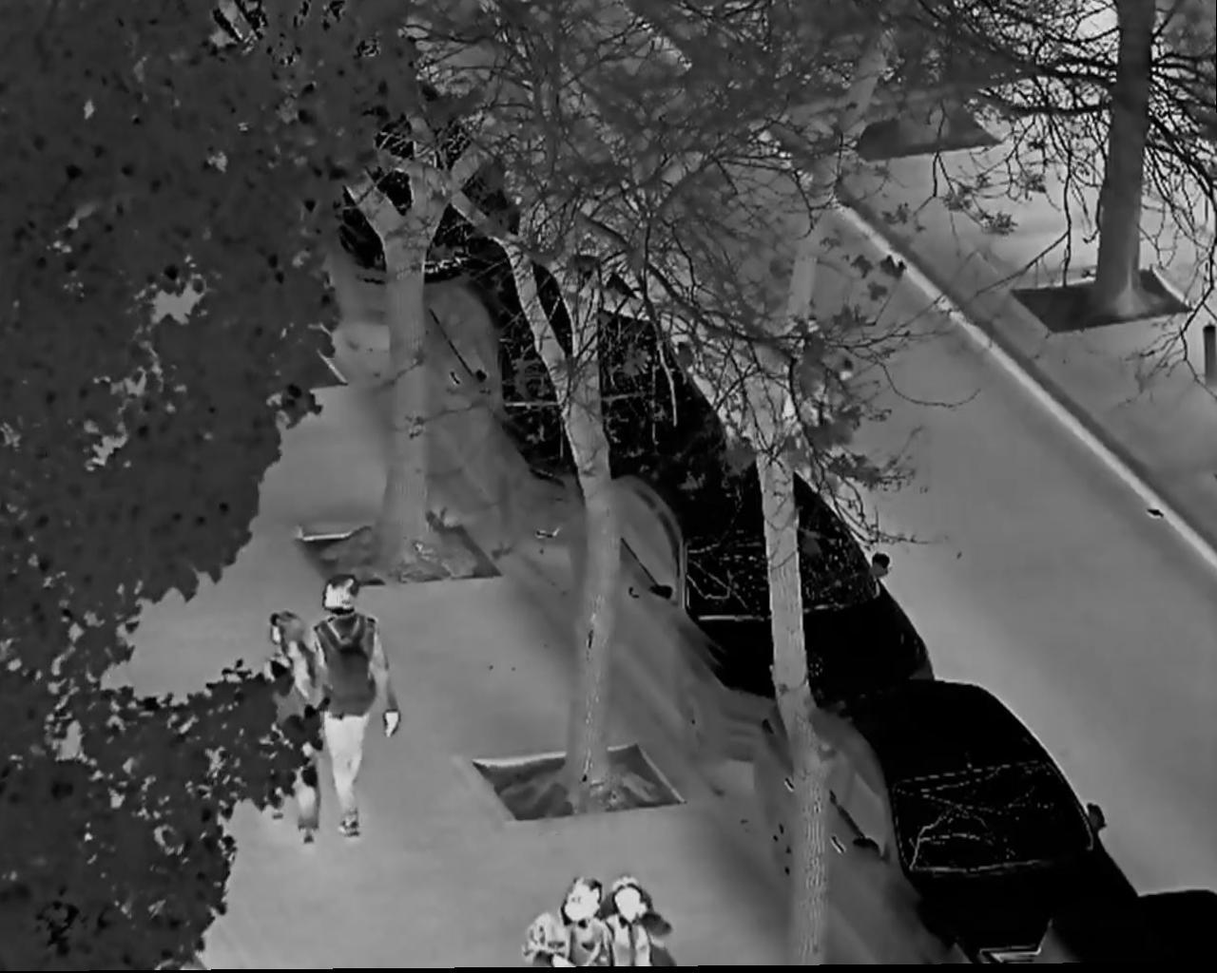person: (311, 578, 396, 842), (253, 611, 319, 844), (524, 875, 608, 973), (602, 876, 672, 973)
